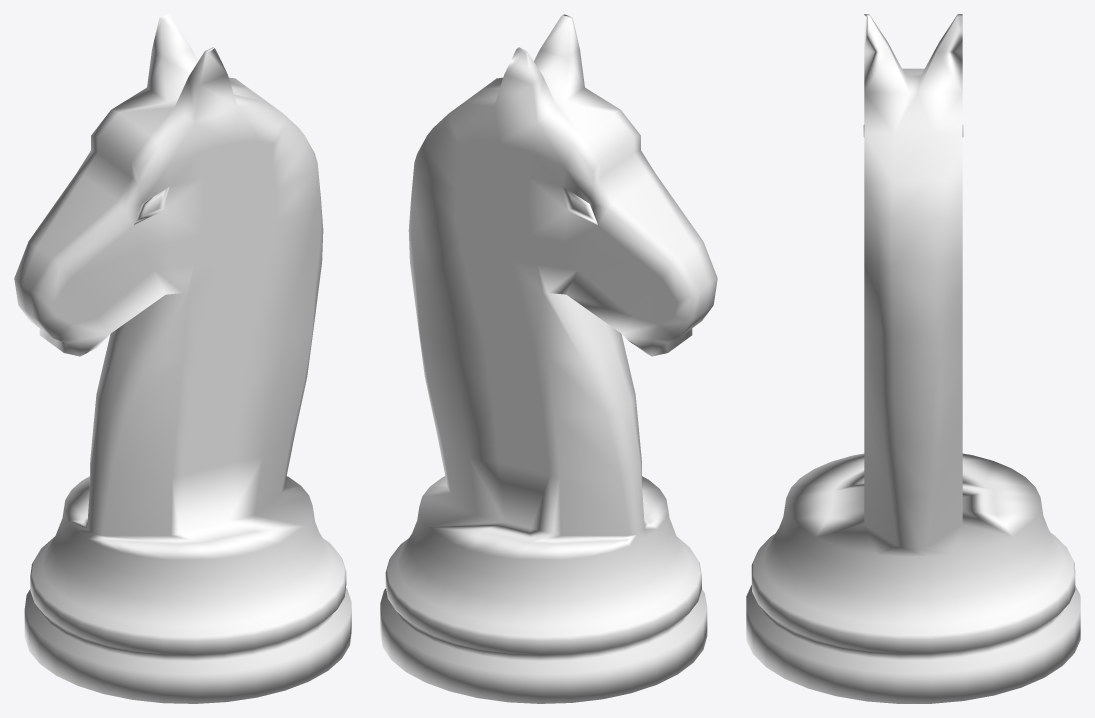
The model's file is pferd_x.fbx.
3 renders of one model, left to right at view 1: azimuth 30°, elevation 25°; view 2: azimuth 150°, elevation 25°; view 3: azimuth 270°, elevation 25°, orthographic. The views are drawn at different scales.
Parts seen in each view (by area): view 1: Plane; view 2: Plane; view 3: Plane.
Boxes of the visible parts, x1,y1,x2,y2 form: Plane: (14, 14, 351, 703); Plane: (380, 14, 717, 703); Plane: (746, 14, 1080, 703).
Bounding box in the file's own units: 3.9 × 7.42 × 3.64.
Materials: 1 (1 with a texture image).
